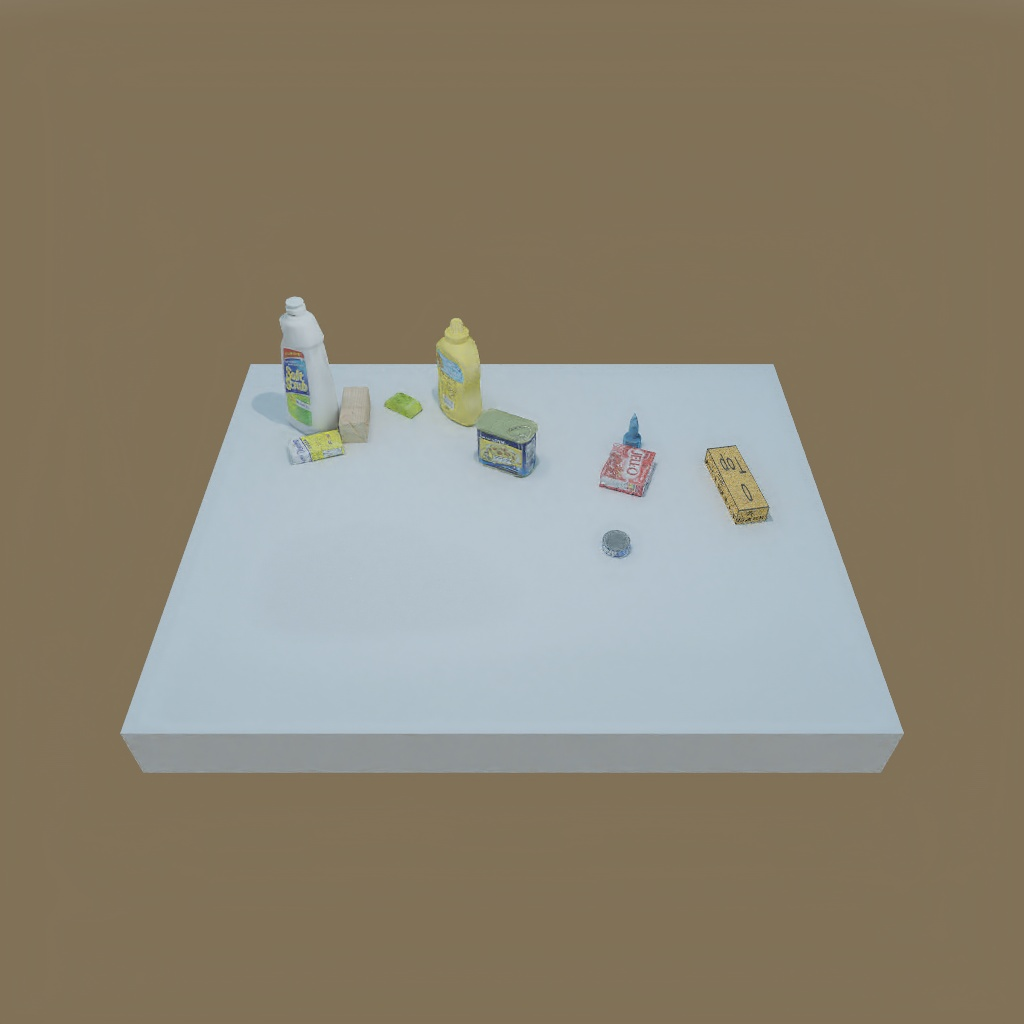gelatin_box: (601, 441, 657, 501)
jenga: (702, 445, 775, 523)
mustard_bottle: (432, 314, 488, 427)
potted_meat_can: (473, 406, 537, 478)
wood_block: (338, 382, 372, 442)
